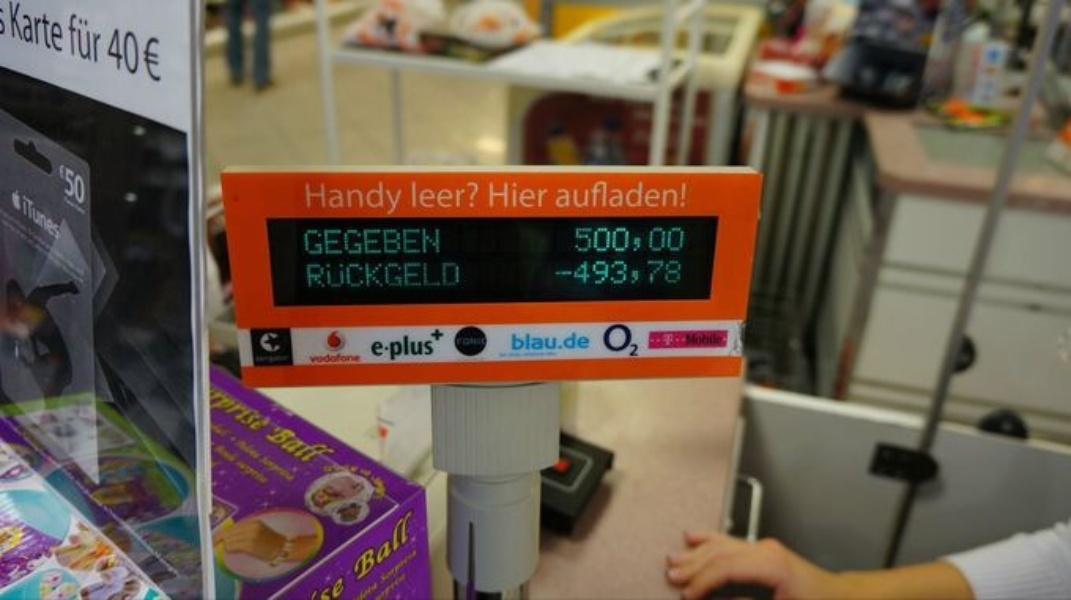text: (353, 503, 368, 586), (369, 503, 384, 586), (385, 503, 400, 586), (401, 503, 416, 586), (1, 207, 16, 289), (17, 207, 32, 289), (33, 207, 48, 289), (49, 207, 64, 289), (65, 207, 80, 289), (225, 419, 240, 489), (241, 419, 256, 489), (257, 419, 272, 489), (273, 419, 288, 489), (113, 26, 128, 86), (129, 26, 144, 86), (145, 26, 160, 86), (49, 1, 65, 56), (353, 451, 368, 509), (369, 451, 384, 509), (81, 10, 96, 67), (212, 419, 224, 489), (289, 419, 301, 489), (17, 1, 32, 56), (33, 1, 48, 56), (225, 382, 240, 437), (241, 382, 256, 437), (257, 382, 272, 437), (289, 418, 304, 473), (305, 418, 320, 473), (321, 418, 336, 473), (385, 451, 399, 509), (33, 193, 48, 245), (210, 382, 224, 437), (401, 547, 416, 597), (67, 10, 80, 67), (65, 160, 80, 208), (49, 193, 62, 245), (388, 547, 400, 597), (305, 180, 320, 216), (321, 180, 336, 216), (337, 180, 352, 216), (353, 180, 368, 216), (369, 180, 384, 216), (385, 180, 400, 216), (609, 323, 624, 358), (625, 323, 640, 358), (369, 328, 384, 363), (385, 328, 400, 363), (401, 328, 416, 363), (417, 328, 432, 363), (81, 207, 87, 289), (465, 180, 481, 210), (577, 224, 592, 256), (593, 224, 608, 256), (609, 224, 624, 256), (625, 224, 640, 256), (641, 224, 656, 256), (657, 224, 672, 256), (23, 193, 32, 245), (433, 328, 446, 363), (417, 180, 432, 210), (433, 180, 448, 210), (449, 180, 464, 210), (497, 180, 512, 210), (513, 180, 528, 210), (529, 180, 544, 210), (561, 180, 576, 210), (577, 180, 592, 210), (593, 180, 608, 210), (609, 180, 624, 210), (625, 180, 640, 210), (641, 180, 656, 210), (657, 180, 672, 210), (673, 180, 688, 210), (305, 227, 320, 257), (321, 227, 336, 257), (337, 227, 352, 257), (353, 227, 368, 257), (369, 227, 384, 257), (385, 227, 400, 257), (401, 227, 416, 257), (417, 227, 432, 257), (305, 260, 320, 290), (321, 260, 336, 290), (337, 260, 352, 290), (353, 260, 368, 290), (369, 260, 384, 290), (385, 260, 400, 290), (401, 260, 416, 290), (417, 260, 432, 290), (433, 260, 448, 290), (561, 257, 576, 287), (577, 257, 592, 287), (593, 257, 608, 287), (609, 257, 624, 287), (625, 257, 640, 287), (641, 257, 656, 287), (657, 257, 672, 287), (673, 224, 687, 256), (8, 1, 16, 56), (97, 10, 104, 67), (449, 260, 462, 290), (321, 575, 336, 599), (577, 330, 593, 352), (65, 196, 80, 219), (57, 160, 64, 208), (417, 503, 421, 586), (673, 257, 684, 287), (513, 330, 528, 352), (529, 330, 544, 352), (545, 330, 560, 352), (561, 330, 576, 352), (433, 227, 443, 257), (161, 26, 166, 86), (81, 160, 87, 208), (308, 575, 320, 599), (337, 418, 342, 473), (487, 180, 496, 210), (349, 503, 352, 586), (108, 26, 112, 86), (553, 180, 560, 210), (553, 257, 560, 287), (689, 331, 704, 345), (705, 331, 720, 345), (602, 323, 608, 358), (337, 575, 345, 599), (349, 451, 352, 509), (321, 352, 336, 363), (337, 352, 352, 363), (465, 334, 480, 345), (273, 382, 276, 437), (545, 180, 550, 210), (308, 352, 320, 363), (353, 352, 364, 363), (412, 180, 416, 210), (81, 196, 86, 219), (454, 334, 464, 345), (401, 180, 404, 216), (513, 353, 528, 360), (529, 353, 544, 360), (545, 353, 560, 360), (417, 547, 419, 597), (498, 353, 512, 360), (481, 334, 489, 345), (574, 224, 576, 256), (641, 323, 642, 358), (689, 180, 690, 210), (303, 227, 304, 257), (303, 260, 304, 290), (686, 331, 688, 345), (511, 330, 512, 352), (721, 331, 722, 345)
